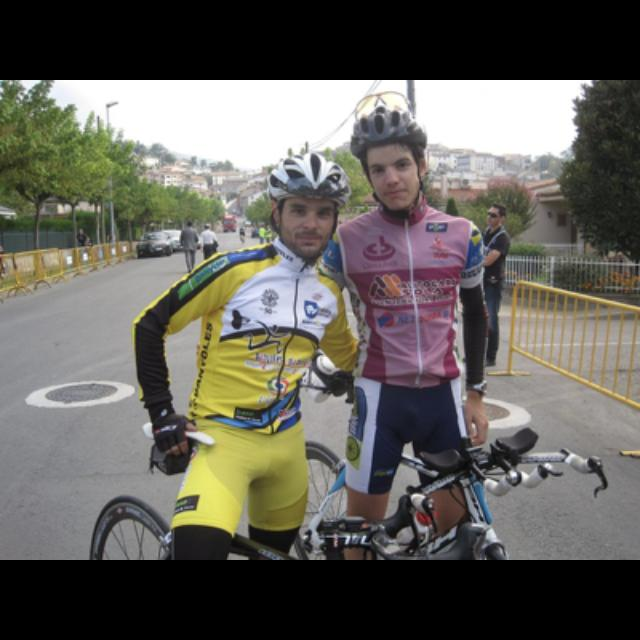With Helmet: (349, 96, 439, 216), (267, 152, 355, 260)
